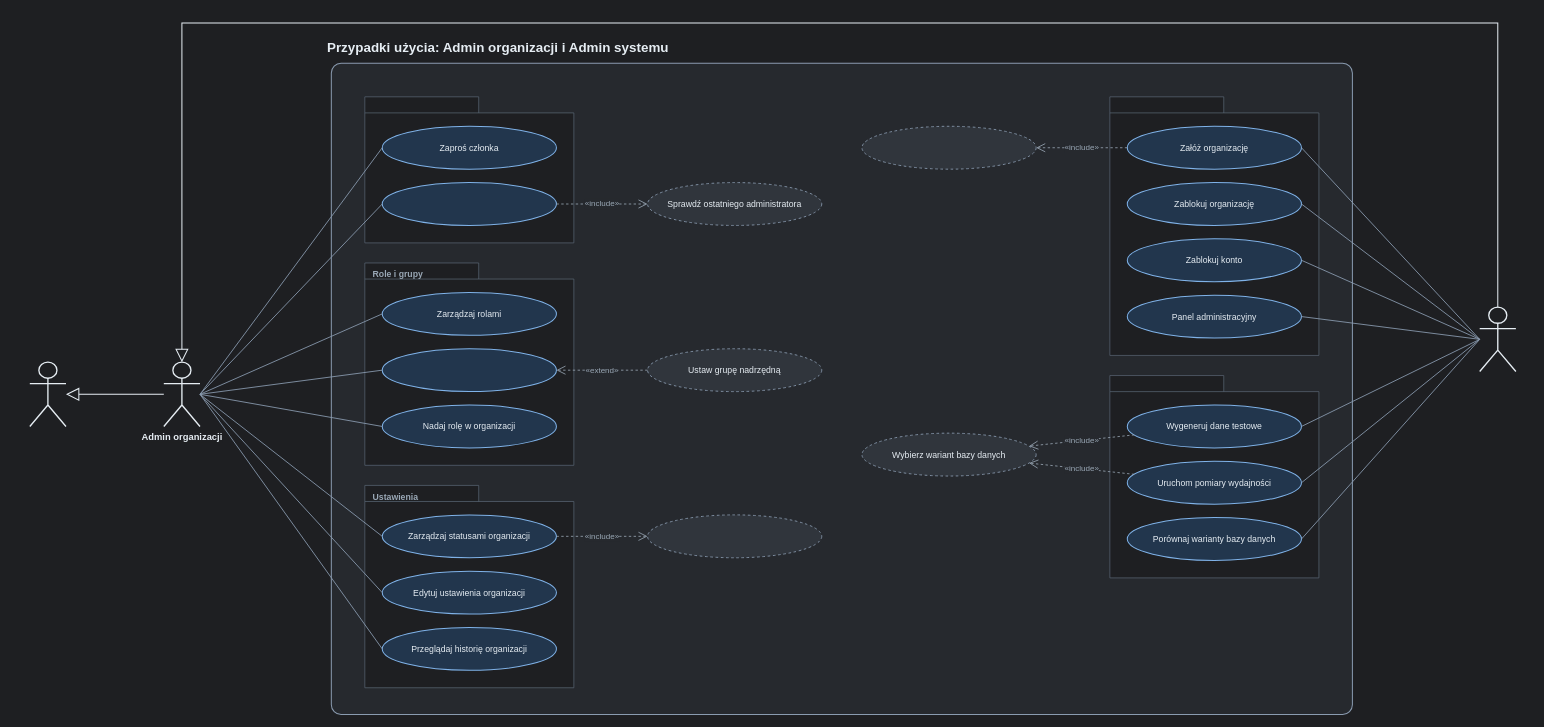
Some shapes in this 1544 by 727 pixel diagram are drawn without their labels. Each missing label, with the box of its shape:
Admin systemu: (1479, 306, 1516, 372)
Członkowie: (364, 96, 574, 243)
Platforma: (1109, 96, 1319, 355)
Project Manager: (29, 361, 66, 427)
Sprawdź, czy status jest używany: (647, 514, 822, 558)
Testy bazodanowe: (1109, 375, 1319, 578)
Utwórz domyślne statusy i role: (861, 126, 1036, 169)
Zarządzaj grupami firmowymi: (381, 348, 557, 392)
Zmień status członka: (381, 182, 557, 226)
